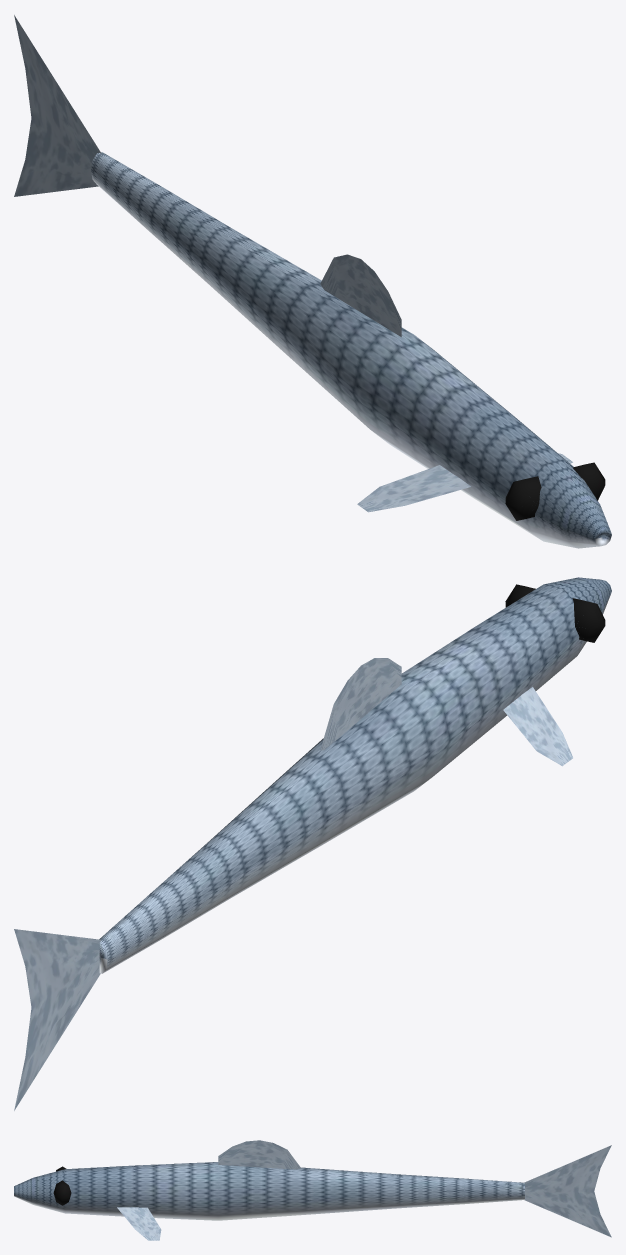
File: silver_sardine.glb
3 renders of one model, top to bottom at view 1: azimuth 30°, elevation 25°; view 2: azimuth 150°, elevation 25°; view 3: azimuth 270°, elevation 25°, orthographic. The views are drawn at different scales.
Size of the model in its own units: 0.0471 by 0.0421 by 0.234.
1 material, 1 textured.
